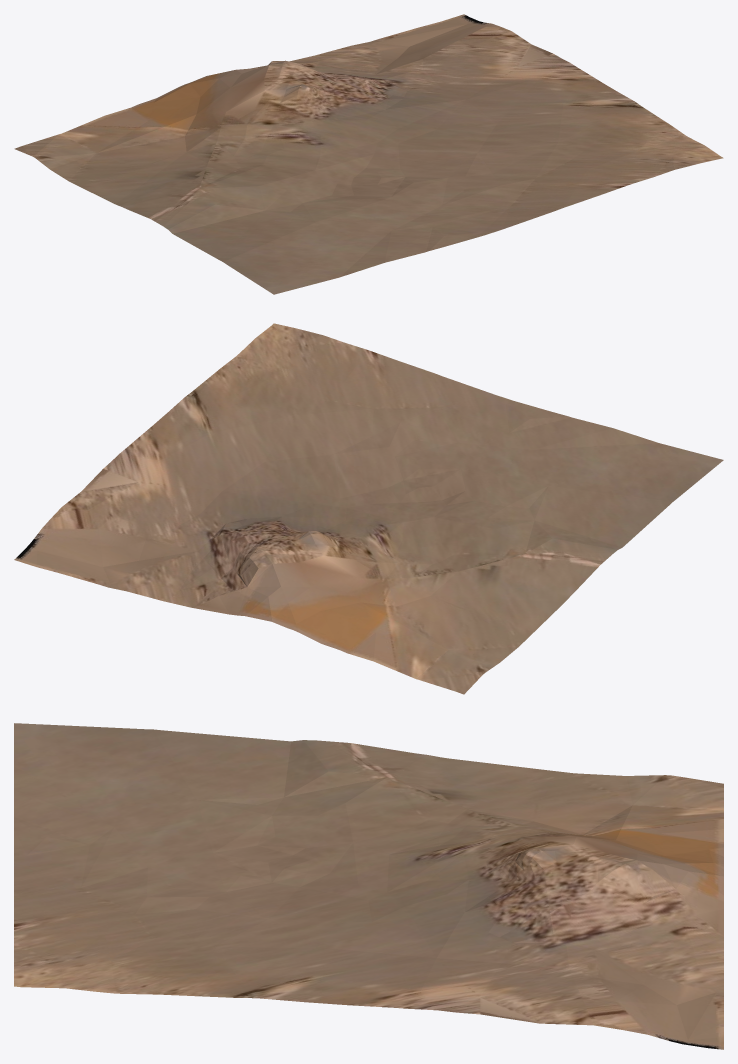
The picture shows the model from 3 angles, top to bottom: view 1: azimuth 30°, elevation 25°; view 2: azimuth 150°, elevation 25°; view 3: azimuth 270°, elevation 25°; orthographic projection. The views are drawn at different scales.
Size of the model in its own units: 4.18 by 0.6359 by 4.18.
2 materials, 2 textured.
